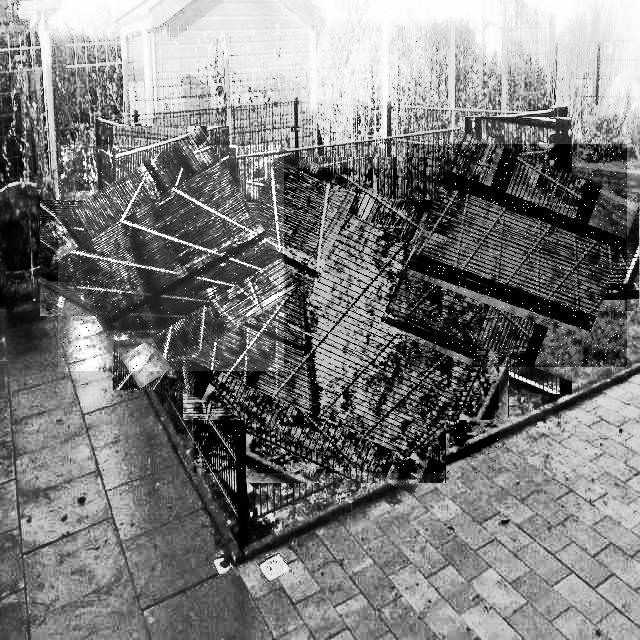fences: (194, 168, 499, 473), (58, 145, 284, 371), (405, 144, 627, 367)
